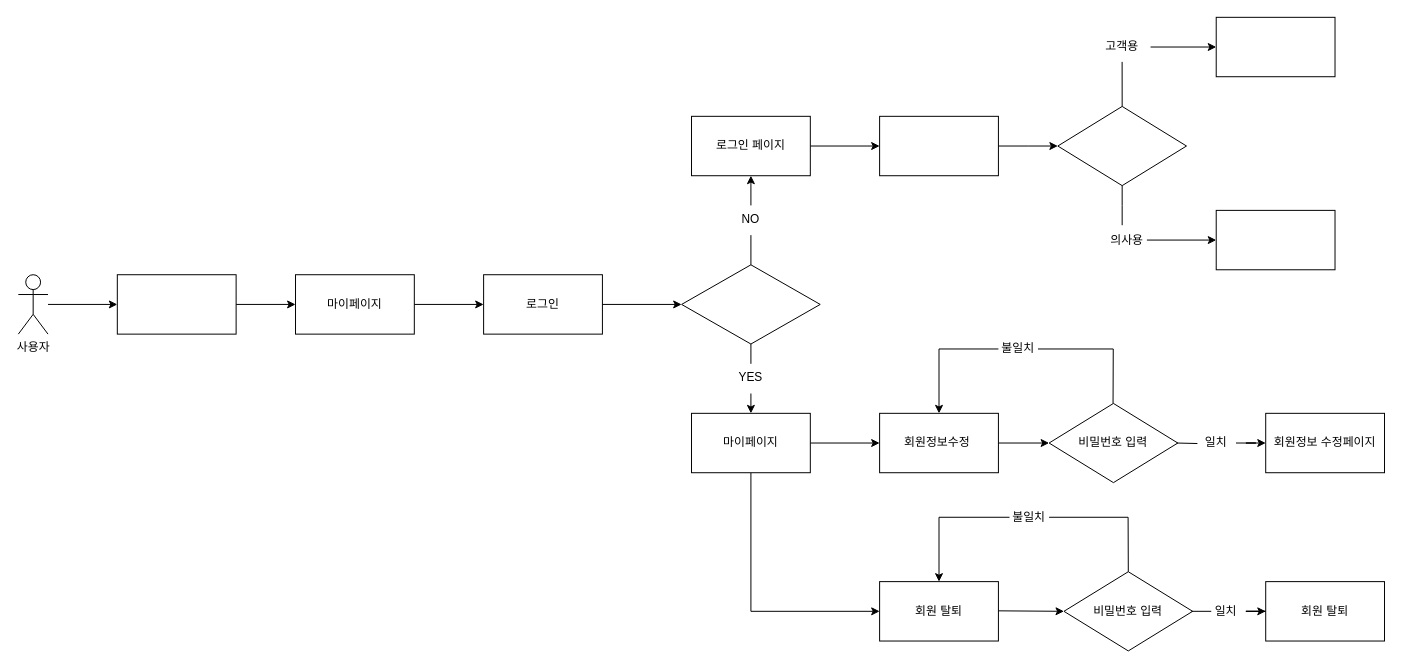
This 1402x668 diagram has some shape labels left out. Each missing label, with the box of its shape:
고객 회원가입: (1215, 16, 1335, 77)
로그인여부: (681, 264, 820, 344)
메인 페이지: (116, 274, 236, 334)
의사 회원가입: (1215, 209, 1335, 270)
회원 가입: (879, 115, 998, 176)
회원가입 유형: (1057, 105, 1187, 186)
